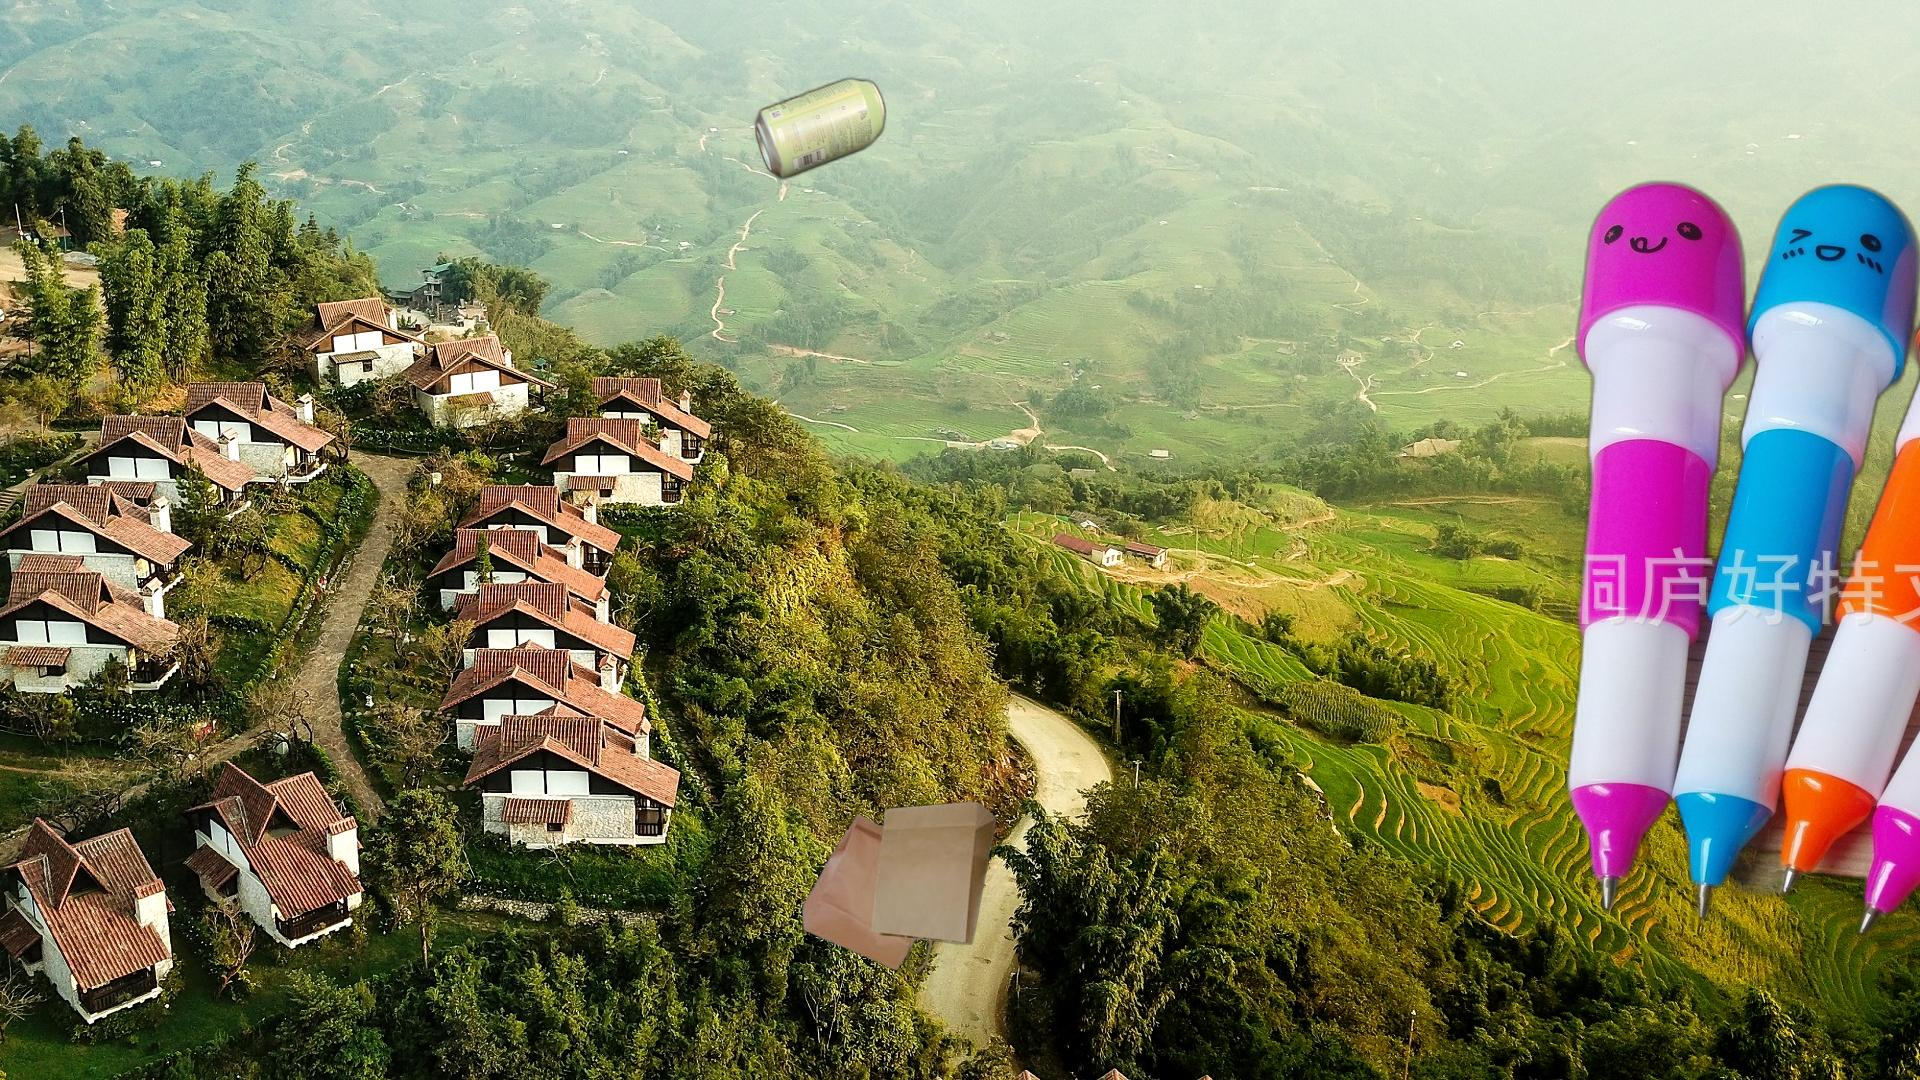metal-cans: (615, 73, 891, 630)
paper-bag: (800, 799, 1000, 975)
penholder: (1551, 174, 1920, 944)
